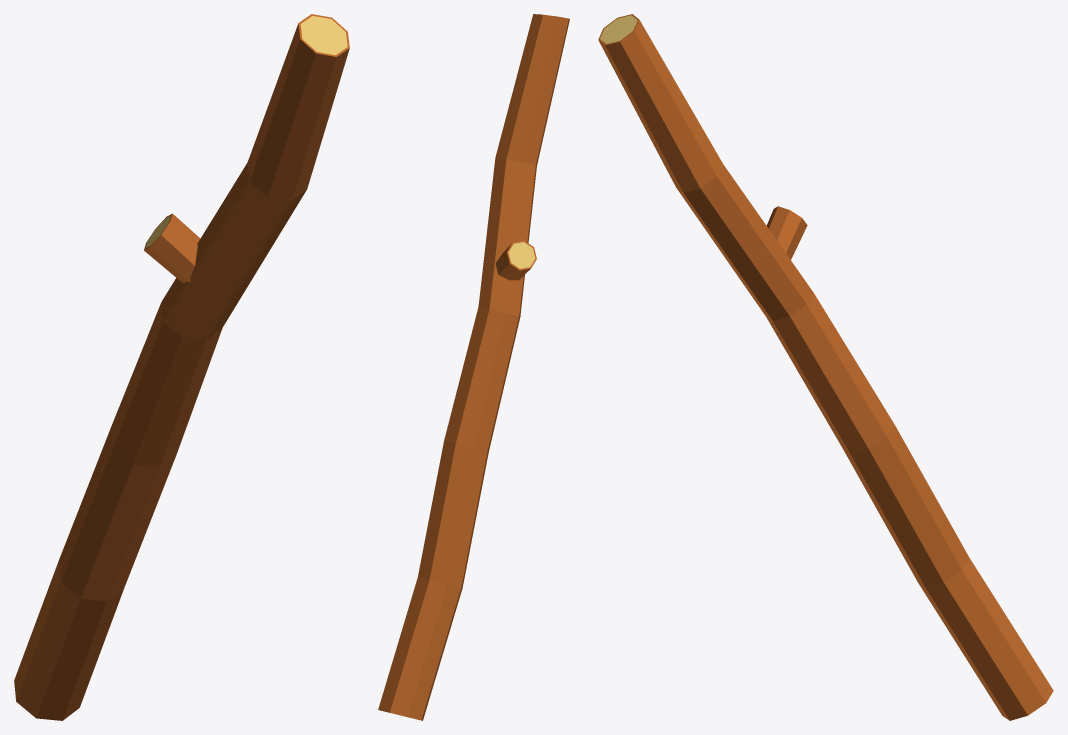
File: stick.fbx
3 views of the same model, side by side, from view 1: azimuth 30°, elevation 25°; view 2: azimuth 150°, elevation 25°; view 3: azimuth 270°, elevation 25° (orthographic). The views are drawn at different scales.
Parts seen in each view (by area): view 1: Цилиндр; view 2: Цилиндр; view 3: Цилиндр.
Part boxes in pixels (x1,y1,x2,y2): Цилиндр: (14,14,349,720); Цилиндр: (378,14,569,720); Цилиндр: (598,14,1053,720).
Size of the model in its own units: 118 by 910 by 531.
